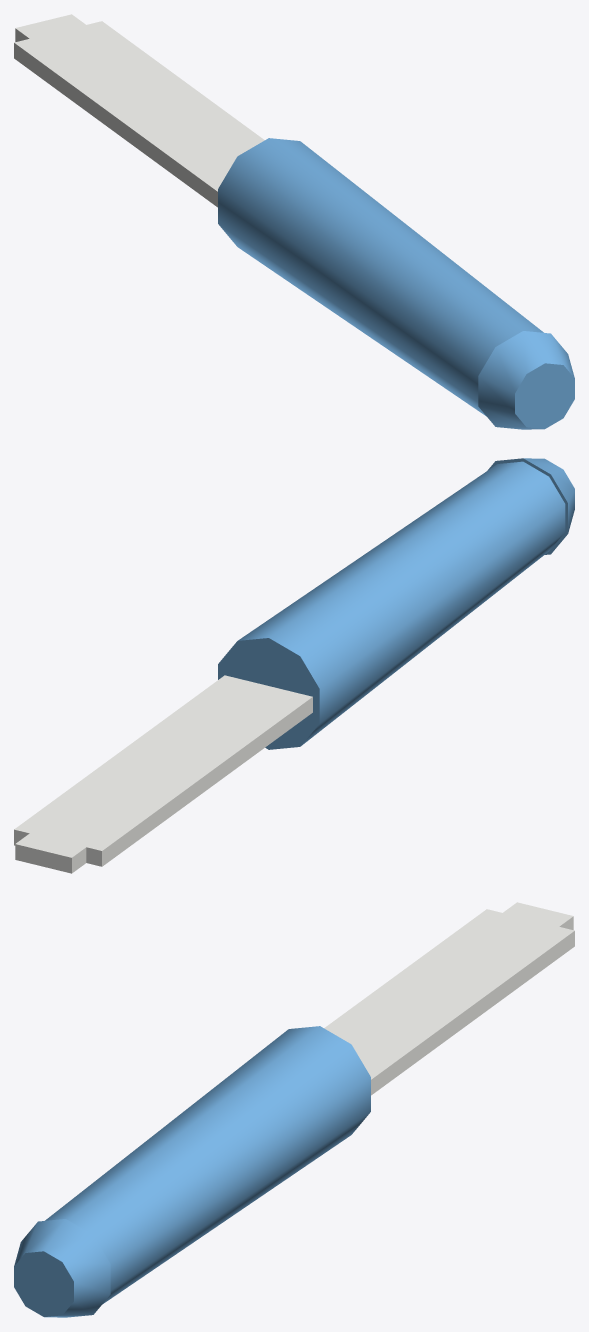
Rendered from tool-spudger.glb.
3 views of the same model, one above another, from view 1: azimuth 30°, elevation 25°; view 2: azimuth 150°, elevation 25°; view 3: azimuth 330°, elevation 25° (orthographic).
Visible parts, largest first — view 1: body; view 2: body; view 3: body.
Part boxes in pixels (x1,y1,x2,y2): body: (14,14,574,429); body: (14,458,574,873); body: (14,902,574,1317).
Bounding box in the file's own units: 0.0162 × 0.017 × 0.138.
